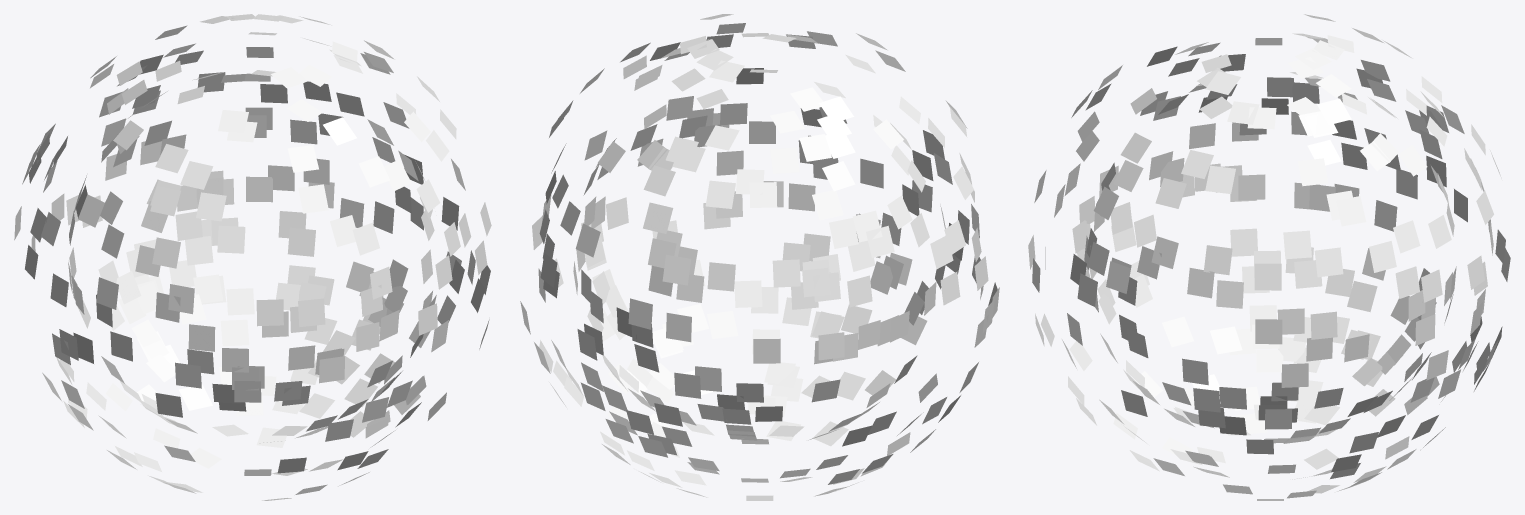
File: space.dae
3 views of the same model, side by side, from view 1: azimuth 30°, elevation 25°; view 2: azimuth 150°, elevation 25°; view 3: azimuth 270°, elevation 25° (orthographic).
Visible parts, largest first — view 1: パーティクルメッシュ; view 2: パーティクルメッシュ; view 3: パーティクルメッシュ.
Part boxes in pixels (<box>): パーティクルメッシュ: <box>14,14,491,500</box>; パーティクルメッシュ: <box>520,14,999,500</box>; パーティクルメッシュ: <box>1028,14,1510,500</box>.
Bounding box in the file's own units: 1.98 × 1.96 × 1.97.
Materials: 1 (1 with a texture image).
